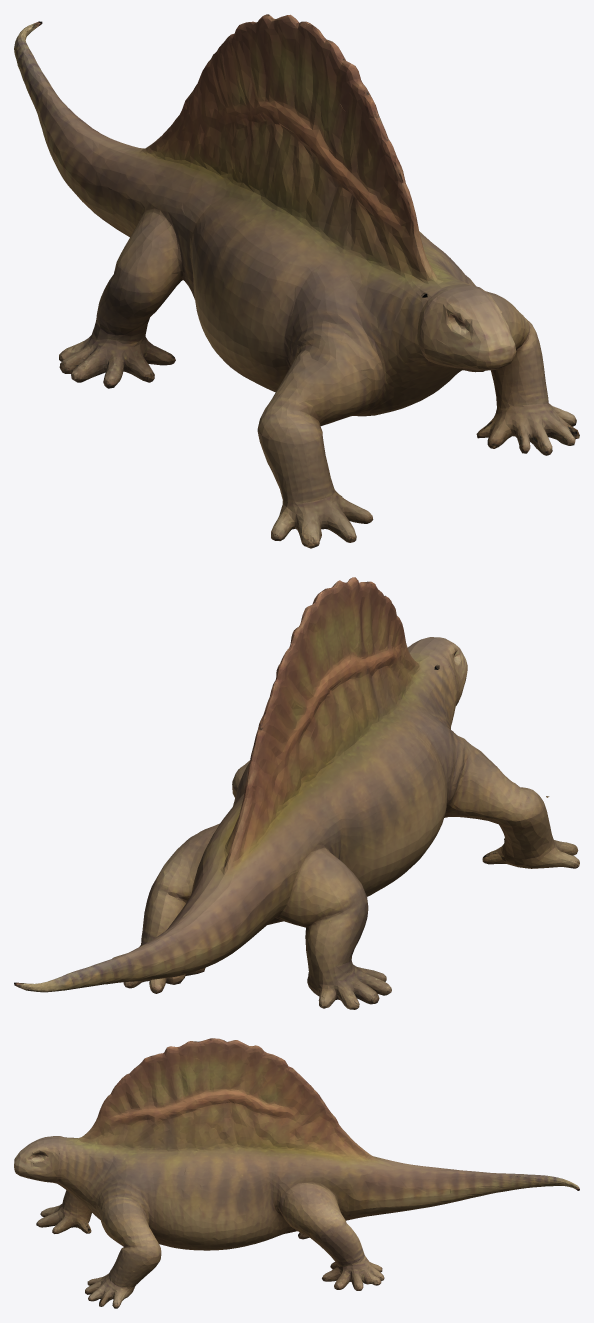
3 views of the same model, one above another, from view 1: azimuth 30°, elevation 25°; view 2: azimuth 150°, elevation 25°; view 3: azimuth 270°, elevation 25° (orthographic). The views are drawn at different scales.
Visible parts, largest first — view 1: world; view 2: world; view 3: world.
Boxes of the visible parts, x1=… form: world: x1=14, y1=14, x2=579, y2=548; world: x1=14, y1=577, x2=579, y2=1009; world: x1=14, y1=1038, x2=579, y2=1308.
Bounding box in the file's own units: 1.03 × 1.08 × 2.5.
2 materials, 1 textured.
